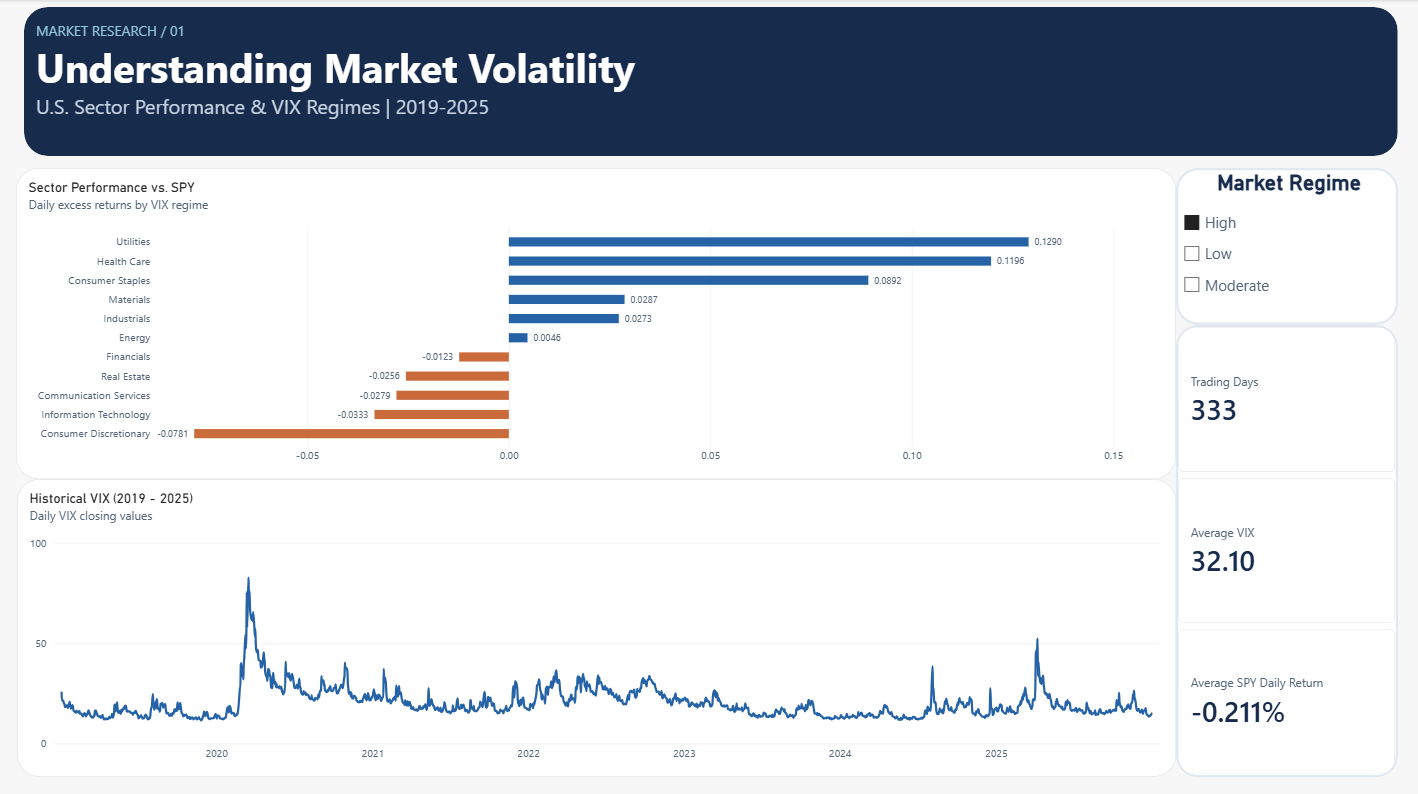

The page's visual inventory and layout, read from the dashboard file:
{"tool":"powerbi","page":{"name":"Market Overview","canvas":[1920,1080],"ordinal":0},"visuals":[{"type":"clusteredBarChart","title":"Sector Performance vs. SPY","fields":{"Category":["sector_market_daily.sector"],"Y":["sector_market_daily.Avg Excess Return (pp)"]},"box":[22.9,227.6,1562.1,418.8],"z":0},{"type":"slicer","title":"Market Regime","fields":{"Values":["sector_market_daily.current_regime"]},"box":[1585,227.6,299,211.4],"z":1000},{"type":"lineChart","title":"Historical VIX (2019 - 2025)","fields":{"Category":["sector_market_daily.trade_date"],"Y":["sector_market_daily.VIX Close"]},"box":[24.2,646.4,1560.7,401.3],"z":2000},{"type":"cardVisual","fields":{"Data":["sector_market_daily.Trading Days","sector_market_daily.Average VIX","sector_market_daily.Average SPY Daily Return"]},"box":[1585,439,299,608.7],"z":3000},{"type":"shape","box":[33.7,10.8,1850,200.6],"z":3001,"group":"g1"},{"type":"textbox","box":[49.9,29.7,1535.2,164.3],"z":3002,"group":"g1"},{"type":"group","id":"g1","title":"Group 1","box":[33.7,10.8,1850,200.6],"z":3003}]}

Visuals, with their boxes in screenshot pixels (x1, y1, x2, y2), scaled from the page's 1920x1080 canvas onto the 1418x794 screenshot:
"Sector Performance vs. SPY" clusteredBarChart: x1=17, y1=167, x2=1171, y2=475
"Market Regime" slicer: x1=1171, y1=167, x2=1391, y2=323
"Historical VIX (2019 - 2025)" lineChart: x1=18, y1=475, x2=1171, y2=770
cardVisual - sector_market_daily.Trading Days x sector_market_daily.Average VIX: x1=1171, y1=323, x2=1391, y2=770
shape: x1=25, y1=8, x2=1391, y2=155
textbox: x1=37, y1=22, x2=1171, y2=143
"Group 1" group: x1=25, y1=8, x2=1391, y2=155
